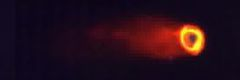keyhole: (183, 31, 201, 46)
